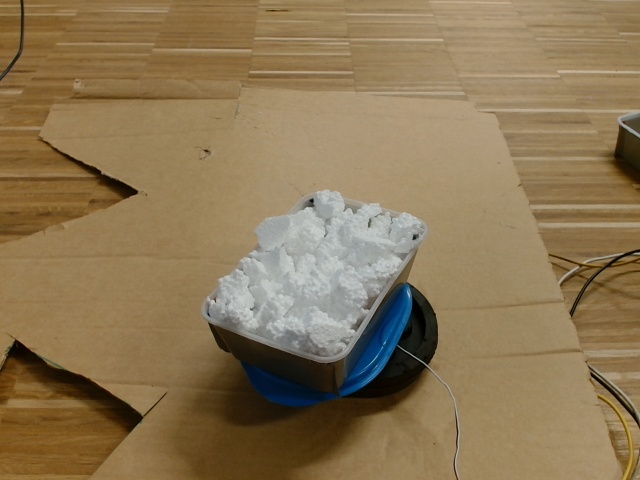Small_full: (200, 187, 427, 367)
